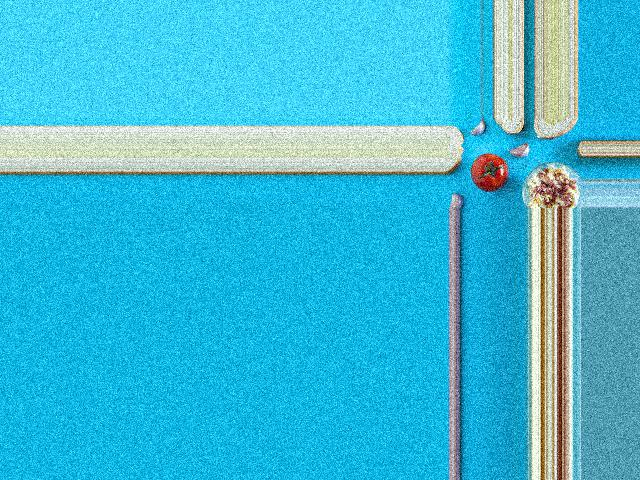tomato: (470, 153, 506, 192)
